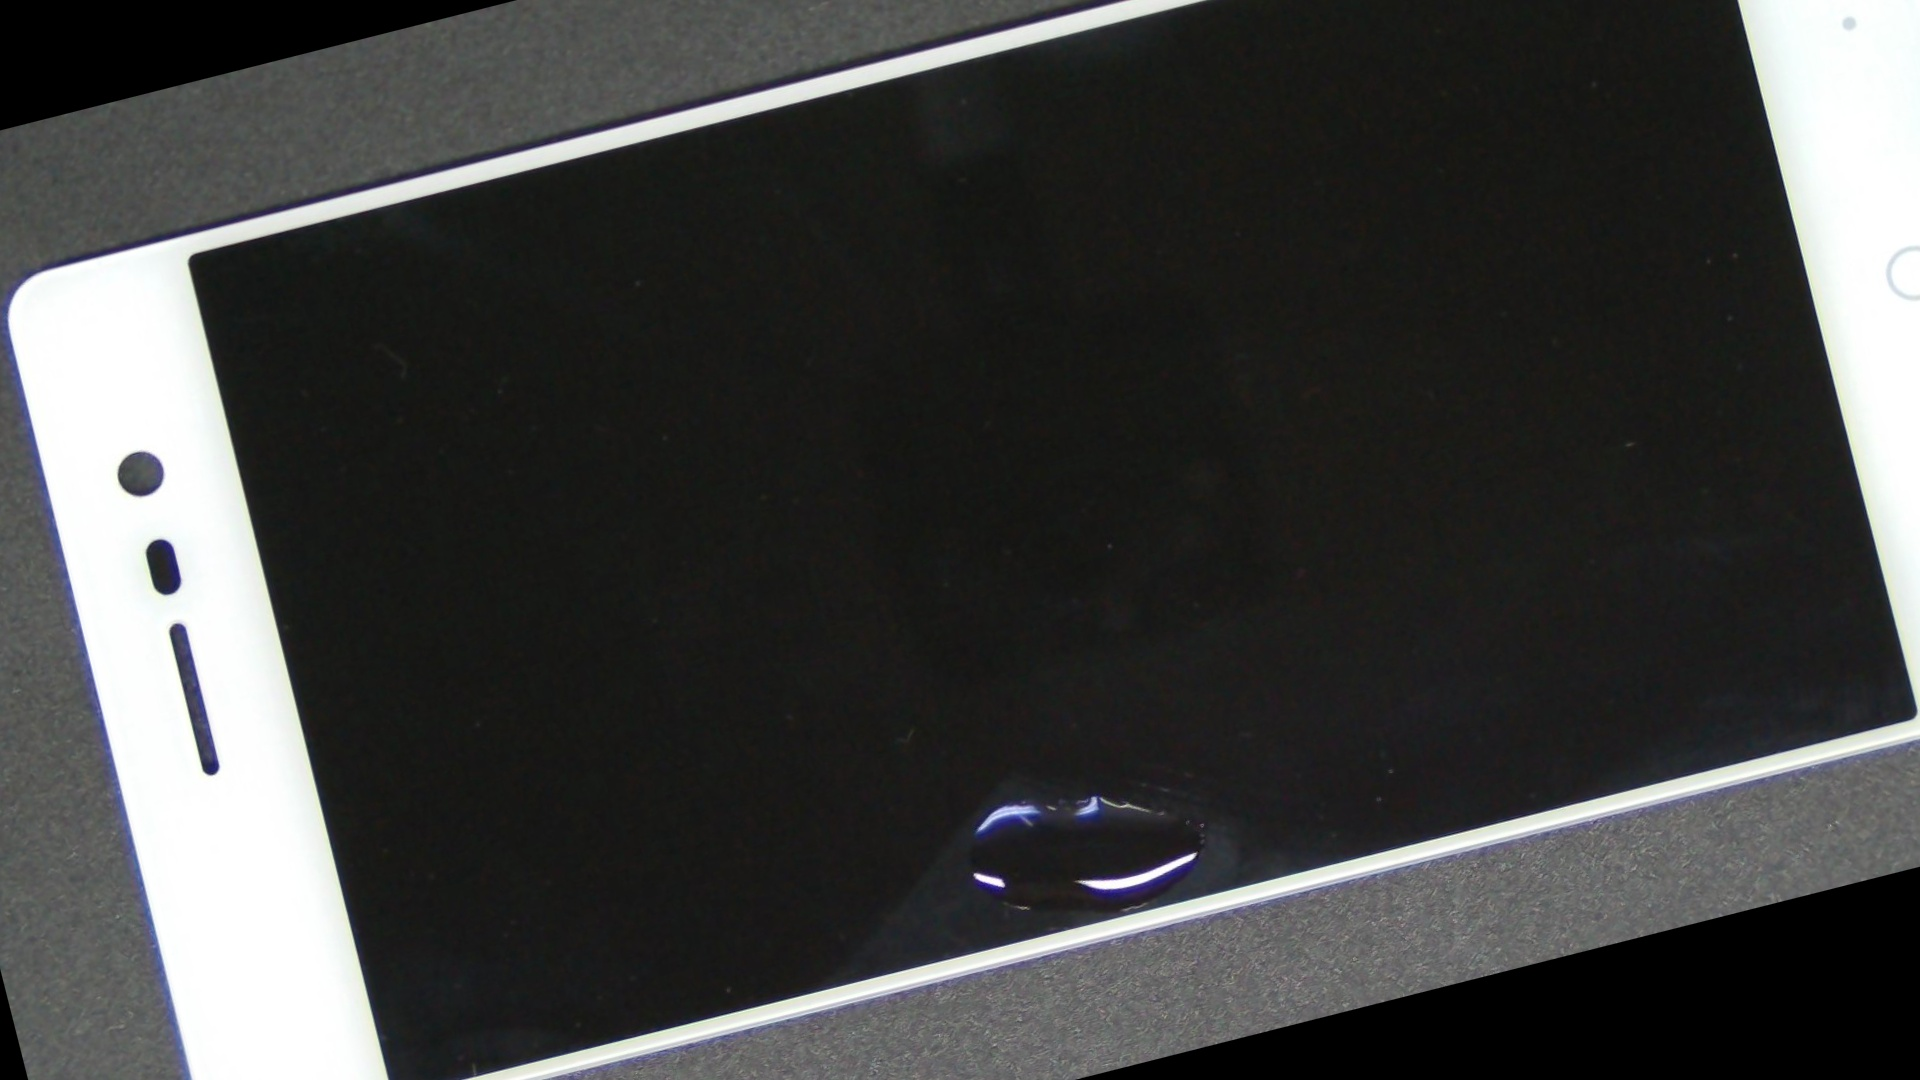oil: (405, 243, 1569, 1080)
